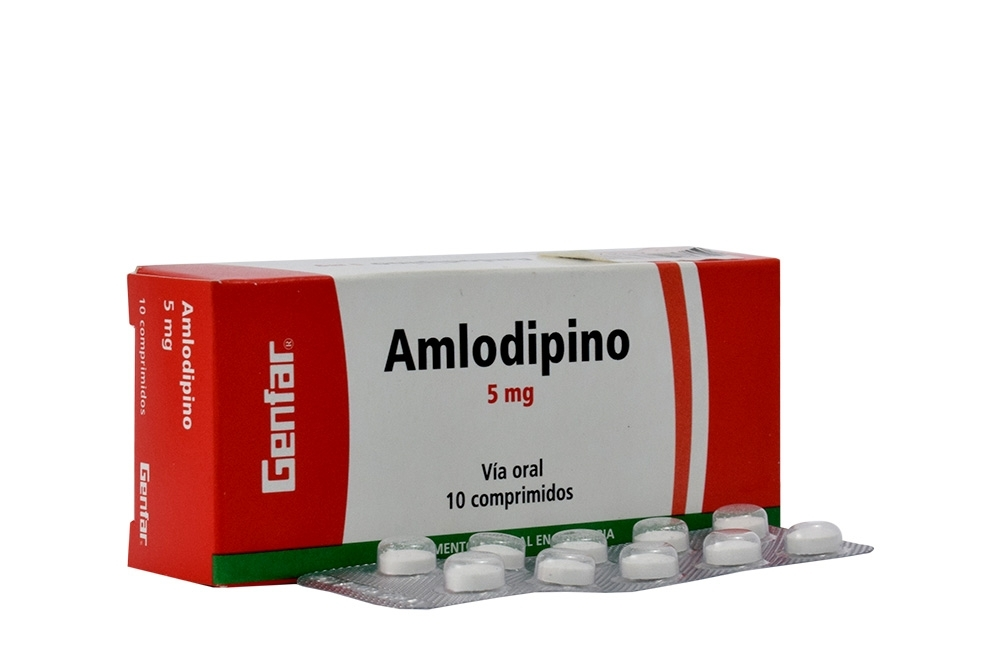Genfar: (221, 265, 780, 590)
